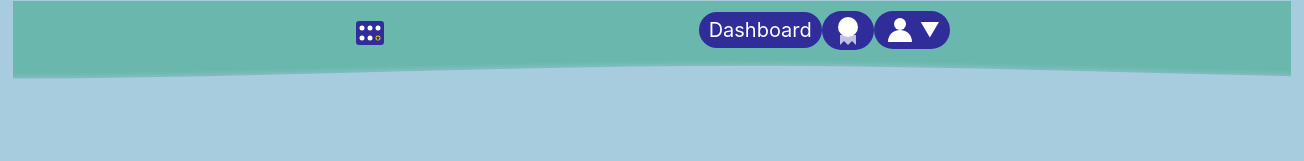
Test: Navbar › user dropdown menu › should show dropdown menu when user icon clicked
The image size is (1304, 161).
Click the button titled "welcome back".
click(912, 30)  # box [874,12,950,50]
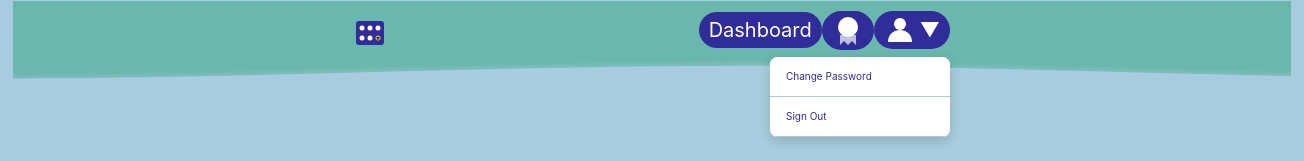
Now the button "Change Password" is shown, box [770,58,950,98]
Now the button "Sign Out" is shown, box [770,98,950,138]
